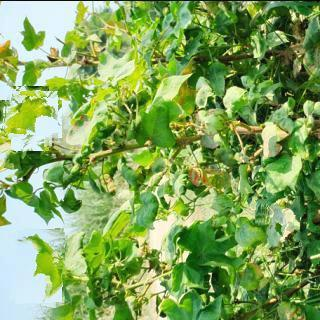blight: (257, 195, 300, 253)
curl: (12, 227, 65, 305), (2, 90, 58, 145)
